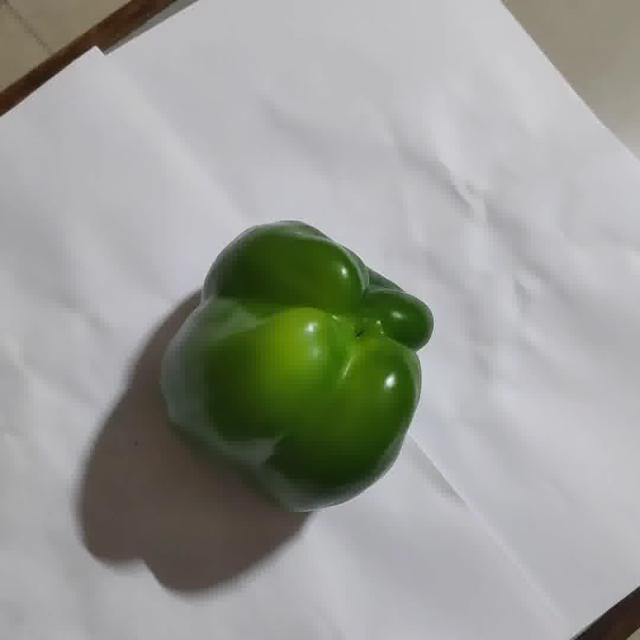Bell Pepper: (161, 222, 433, 513)
